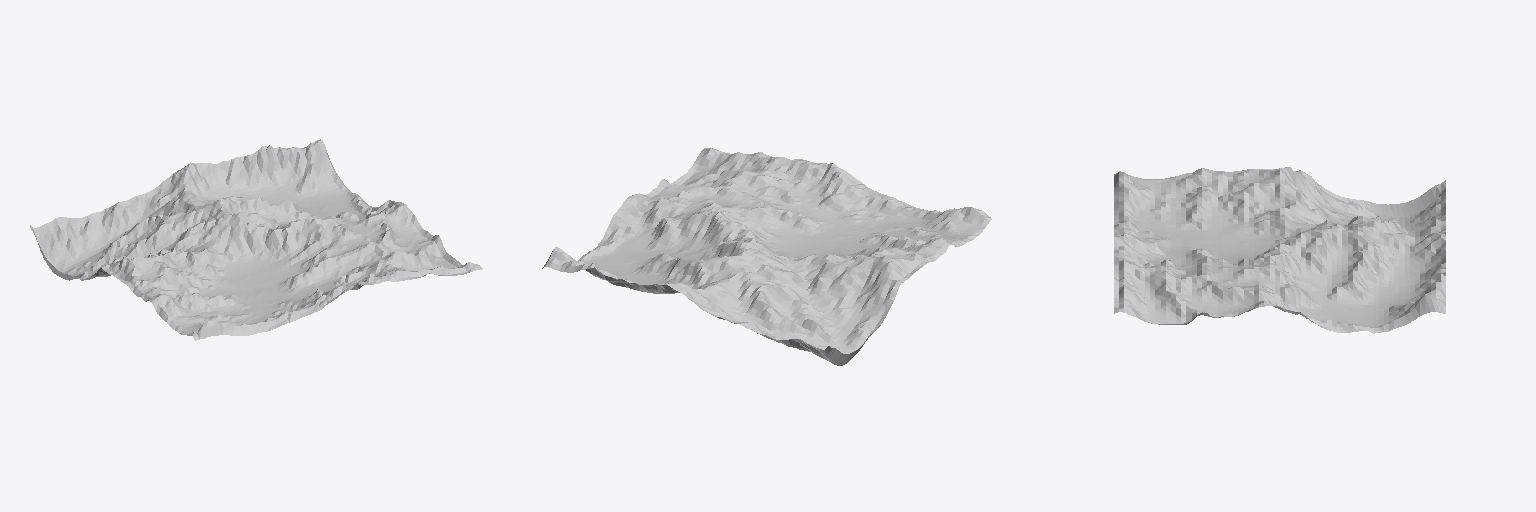
Rendered from landscape3.obj.
3 renders of one model, left to right at view 1: azimuth 30°, elevation 25°; view 2: azimuth 150°, elevation 25°; view 3: azimuth 270°, elevation 25°, orthographic.
Parts seen in each view (by area): view 1: Plane_Plane.003; view 2: Plane_Plane.003; view 3: Plane_Plane.003.
Boxes of the visible parts, box(x1,y1,x2,y2) form: Plane_Plane.003: box(30, 139, 482, 340); Plane_Plane.003: box(542, 148, 991, 365); Plane_Plane.003: box(1114, 167, 1445, 333).
Size of the model in its own units: 40 by 7.72 by 40.